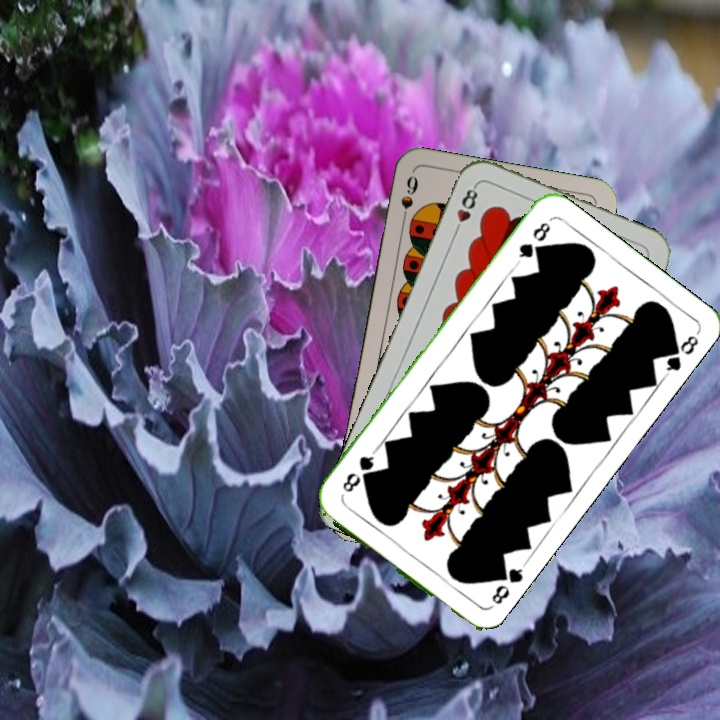G8: (512, 218, 553, 267), (487, 561, 528, 607)
H8: (450, 181, 481, 238)
S9: (397, 171, 421, 229)
